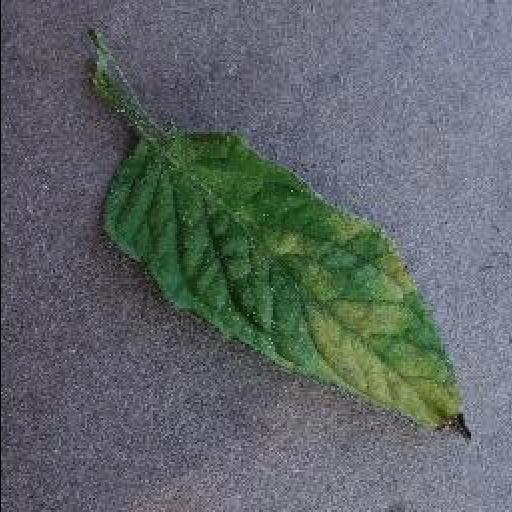disease_tomato: (100, 138, 470, 442)
